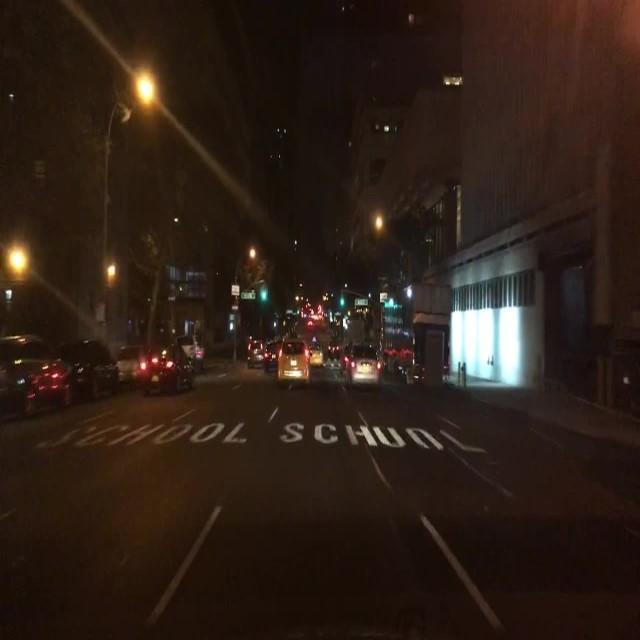normal: (99, 306, 210, 420), (252, 306, 323, 405), (336, 325, 388, 394)
